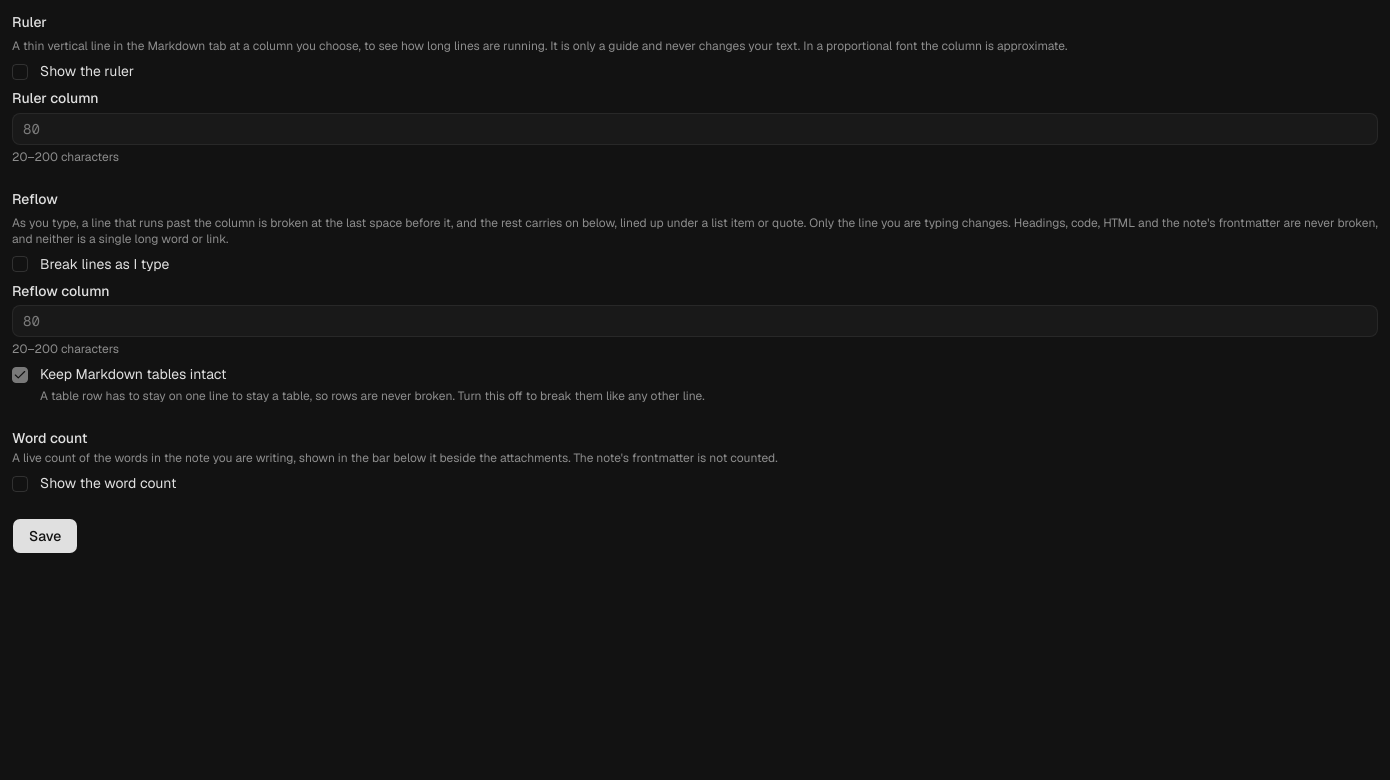
Test case: writing settings › shows the reason when the save fails
Step 1. Click the button "Save" → click(45, 536), box [12,518,78,554]
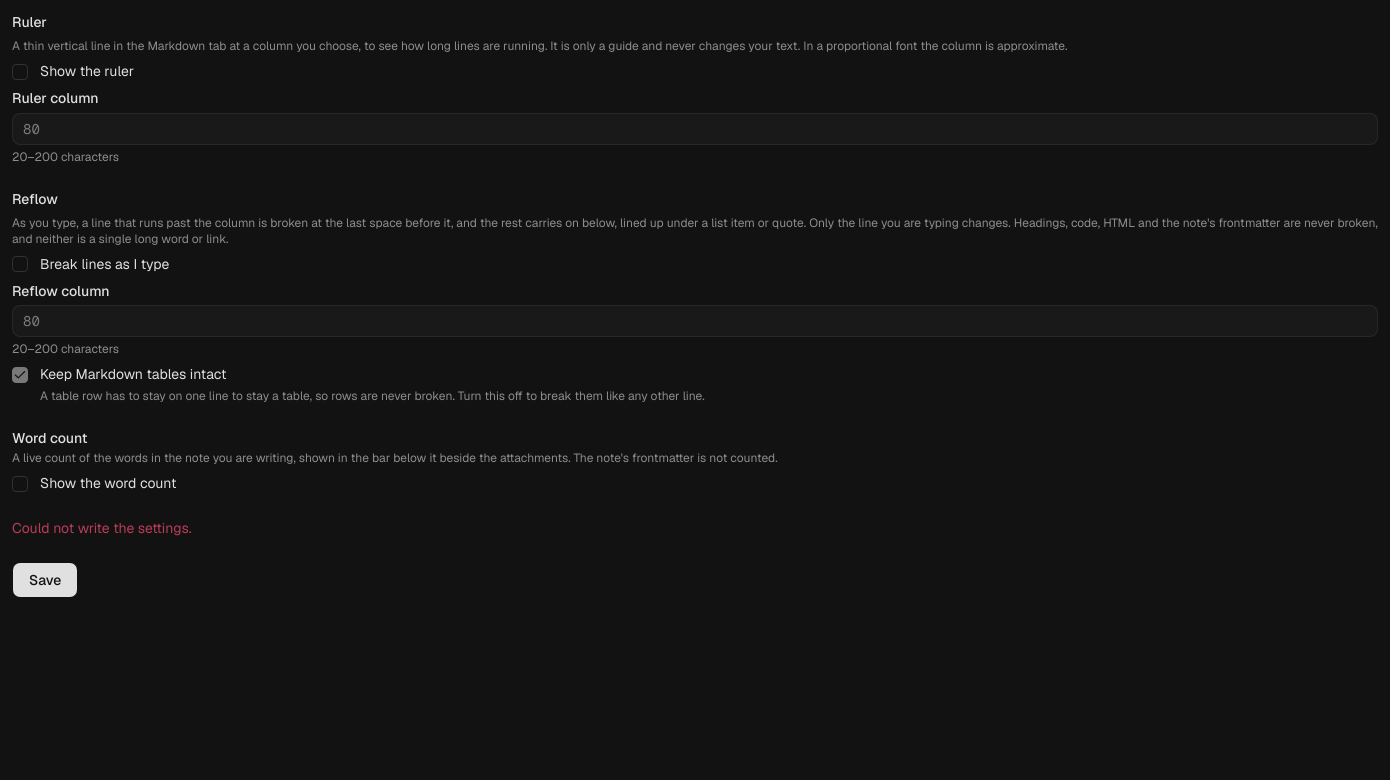
Now the text "Could not write the settings." is shown, box [12,518,192,536]
